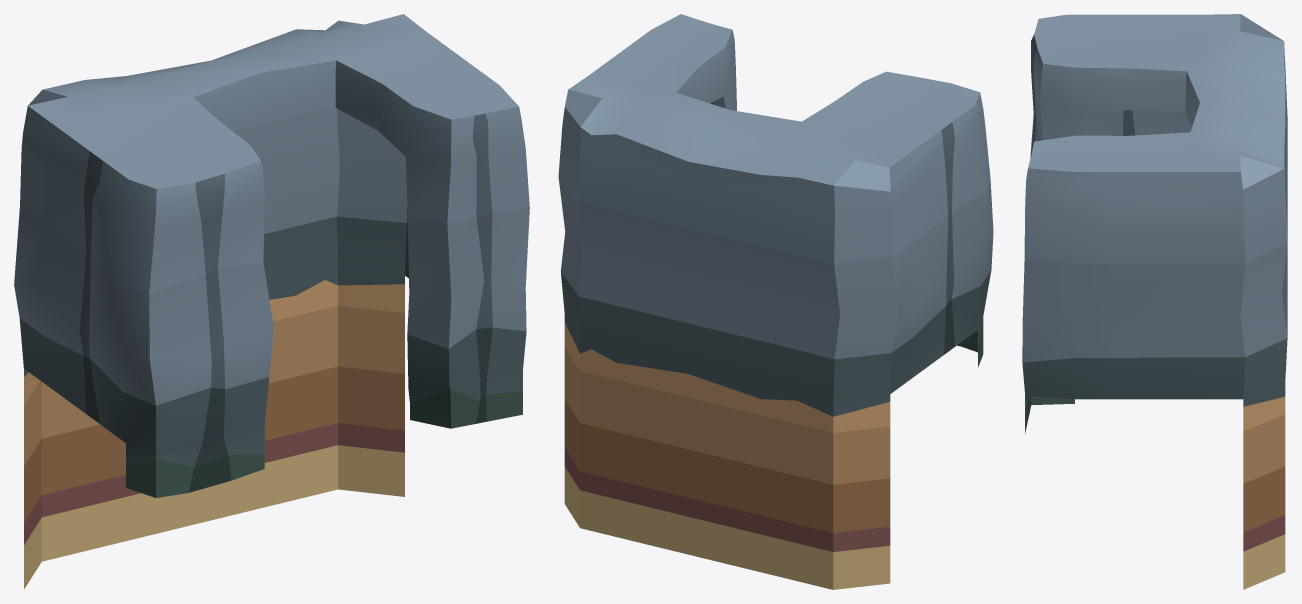
Rendered from WaterFall.fbx.
3 renders of one model, left to right at view 1: azimuth 30°, elevation 25°; view 2: azimuth 150°, elevation 25°; view 3: azimuth 270°, elevation 25°, orthographic. The views are drawn at different scales.
Visible parts, largest first — view 1: Plane.094; view 2: Plane.094; view 3: Plane.094.
Boxes of the visible parts, x1=… form: Plane.094: x1=14, y1=14, x2=529, y2=589; Plane.094: x1=558, y1=14, x2=993, y2=589; Plane.094: x1=1022, y1=14, x2=1287, y2=589.
Size of the model in its own units: 944 by 1094 by 630.
